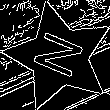N_SE: (28, 28, 91, 85)
